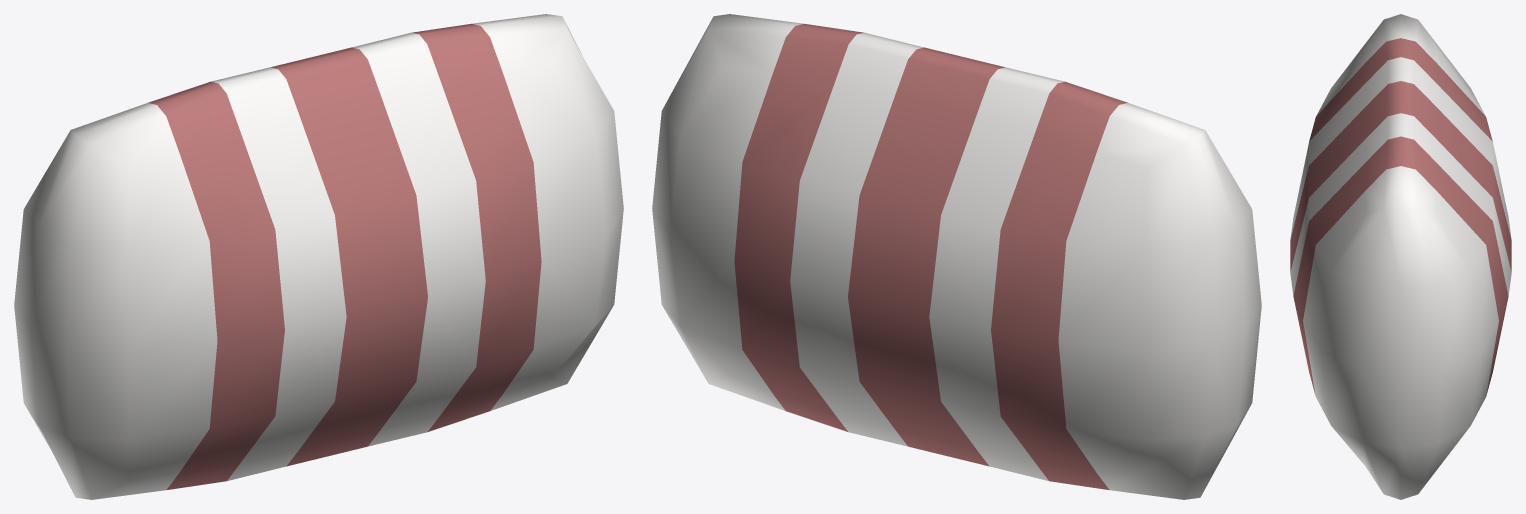
The model's file is Pillow_3.glb.
3 renders of one model, left to right at view 1: azimuth 30°, elevation 25°; view 2: azimuth 150°, elevation 25°; view 3: azimuth 270°, elevation 25°, orthographic. The views are drawn at different scales.
Visible parts, largest first — view 1: Pillow_3; view 2: Pillow_3; view 3: Pillow_3.
Part boxes in pixels (box(x1,y1,x2,y2)): Pillow_3: box(14, 14, 623, 499); Pillow_3: box(652, 14, 1261, 499); Pillow_3: box(1290, 14, 1511, 499).
Size of the model in its own units: 0.8761 by 0.5749 by 0.36.
Materials: 1 (1 with a texture image).
